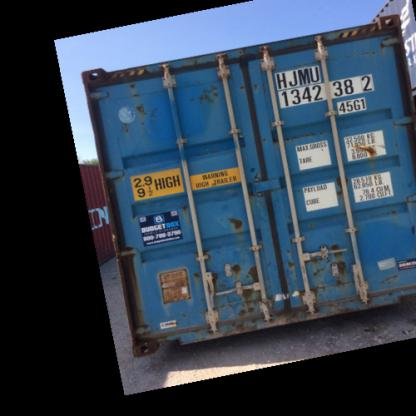Damage: (212, 257, 266, 327), (306, 236, 353, 298), (114, 80, 156, 142), (187, 76, 225, 106), (346, 137, 387, 161), (221, 210, 252, 235), (176, 194, 195, 222)
